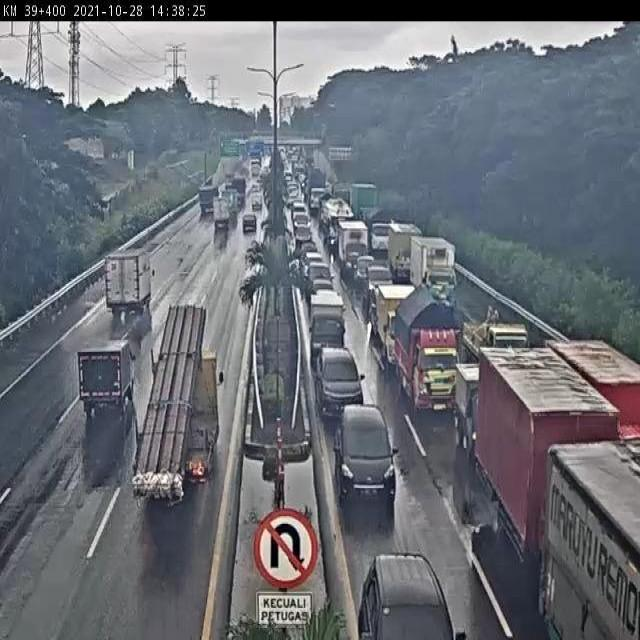big truck: (479, 344, 611, 577), (538, 434, 640, 640), (543, 333, 640, 440), (463, 300, 530, 371)
car: (368, 540, 452, 640), (335, 398, 399, 506), (311, 345, 372, 420), (367, 260, 392, 295), (306, 262, 340, 282), (356, 258, 376, 286), (240, 213, 256, 235), (310, 279, 334, 293), (306, 251, 328, 265)
small truck: (123, 325, 228, 491), (396, 292, 462, 421), (76, 338, 139, 438), (99, 246, 161, 322), (411, 238, 466, 318), (458, 363, 499, 456), (376, 284, 420, 357), (309, 291, 351, 357), (390, 220, 419, 281), (210, 199, 233, 232), (194, 186, 220, 213)
